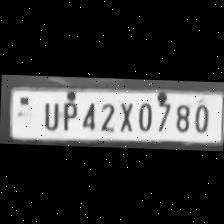0: (190, 100, 212, 132), (134, 97, 154, 130)
2: (96, 97, 116, 130)
4: (78, 96, 98, 130)
7: (154, 98, 170, 132)
8: (170, 98, 192, 132)
P: (57, 96, 77, 130)
U: (38, 96, 60, 128)
X: (116, 98, 134, 132)
